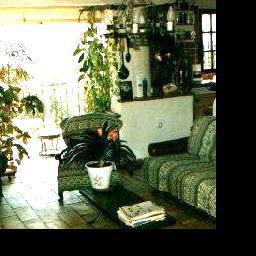Matera: (0, 80, 2, 216)
